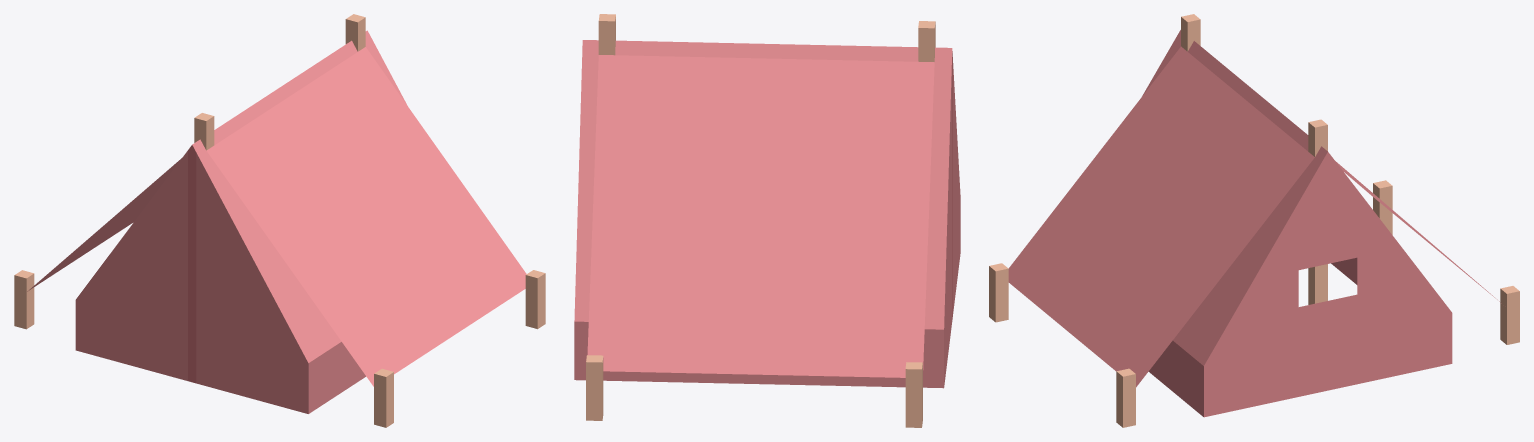
File: tent.glb
3 renders of one model, left to right at view 1: azimuth 30°, elevation 25°; view 2: azimuth 150°, elevation 25°; view 3: azimuth 270°, elevation 25°, orthographic. The views are drawn at different scales.
Visible parts, largest first — view 1: tent; view 2: tent; view 3: tent.
Part boxes in pixels (<box>): tent: <box>14,14,545,427</box>; tent: <box>574,14,960,427</box>; tent: <box>989,14,1519,427</box>.
Size of the model in its own units: 1.4 by 0.8588 by 1.6.
